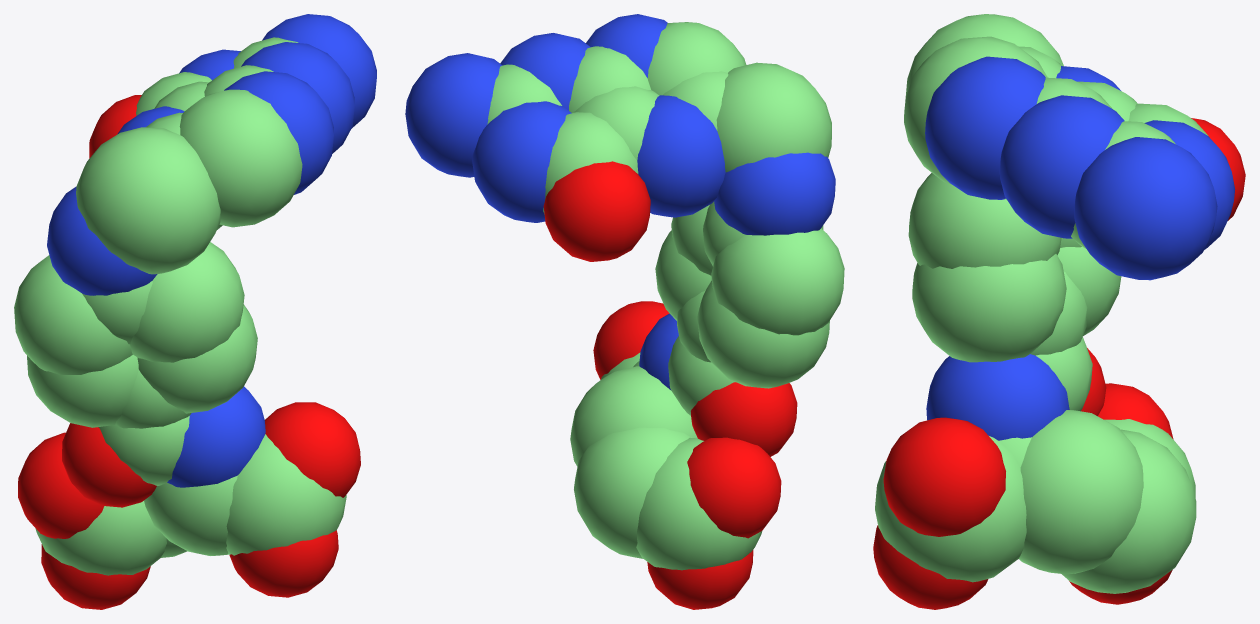
File: Folate.dae
3 views of the same model, side by side, from view 1: azimuth 30°, elevation 25°; view 2: azimuth 150°, elevation 25°; view 3: azimuth 270°, elevation 25° (orthographic). The views are drawn at different scales.
Parts seen in each view (by area): view 1: subnode_12, subnode_9, subnode_18, subnode_29, subnode_16, subnode_22, subnode_30, subnode_19, subnode_26, subnode_13, subnode_28, subnode_10 (+17 smaller); view 2: subnode_16, subnode_12, subnode_25, subnode_5, subnode_2, subnode_13, subnode_7, subnode_3, subnode_26, subnode_28, subnode_15, subnode_24 (+17 smaller); view 3: subnode_2, subnode_24, subnode_19, subnode_30, subnode_0, subnode_10, subnode_18, subnode_25, subnode_22, subnode_29, subnode_9, subnode_31 (+16 smaller).
Part boxes in pixels (left/top/right/bottom): subnode_12: left=76, top=127, right=220, bottom=274; subnode_9: left=179, top=89, right=302, bottom=227; subnode_18: left=130, top=242, right=244, bottom=362; subnode_29: left=226, top=434, right=346, bottom=555; subnode_16: left=14, top=255, right=132, bottom=374; subnode_22: left=167, top=386, right=265, bottom=487; subnode_30: left=265, top=402, right=360, bottom=497; subnode_19: left=137, top=304, right=257, bottom=413; subnode_26: left=35, top=501, right=166, bottom=575; subnode_13: left=47, top=186, right=157, bottom=295; subnode_28: left=18, top=432, right=104, bottom=538; subnode_10: left=224, top=71, right=333, bottom=194; subnode_16: left=711, top=228, right=844, bottom=335; subnode_12: left=716, top=62, right=831, bottom=172; subnode_25: left=574, top=427, right=692, bottom=558; subnode_5: left=543, top=161, right=650, bottom=261; subnode_2: left=405, top=53, right=502, bottom=177; subnode_13: left=714, top=152, right=835, bottom=235; subnode_7: left=637, top=95, right=725, bottom=217; subnode_3: left=472, top=101, right=571, bottom=222; subnode_26: left=636, top=437, right=762, bottom=570; subnode_28: left=687, top=437, right=781, bottom=538; subnode_15: left=697, top=280, right=829, bottom=388; subnode_24: left=570, top=366, right=697, bottom=466; subnode_2: left=1074, top=137, right=1217, bottom=280; subnode_24: left=1019, top=410, right=1143, bottom=574; subnode_19: left=912, top=254, right=1066, bottom=362; subnode_30: left=883, top=417, right=1005, bottom=536; subnode_0: left=999, top=95, right=1124, bottom=238; subnode_10: left=925, top=56, right=1045, bottom=199; subnode_18: left=908, top=173, right=1061, bottom=268; subnode_25: left=1062, top=429, right=1196, bottom=593; subnode_22: left=926, top=354, right=1069, bottom=440; subnode_29: left=875, top=436, right=1026, bottom=582; subnode_9: left=904, top=36, right=1047, bottom=184; subnode_31: left=873, top=525, right=988, bottom=609.
Size of the model in its own units: 11.45 by 15 by 8.43.
